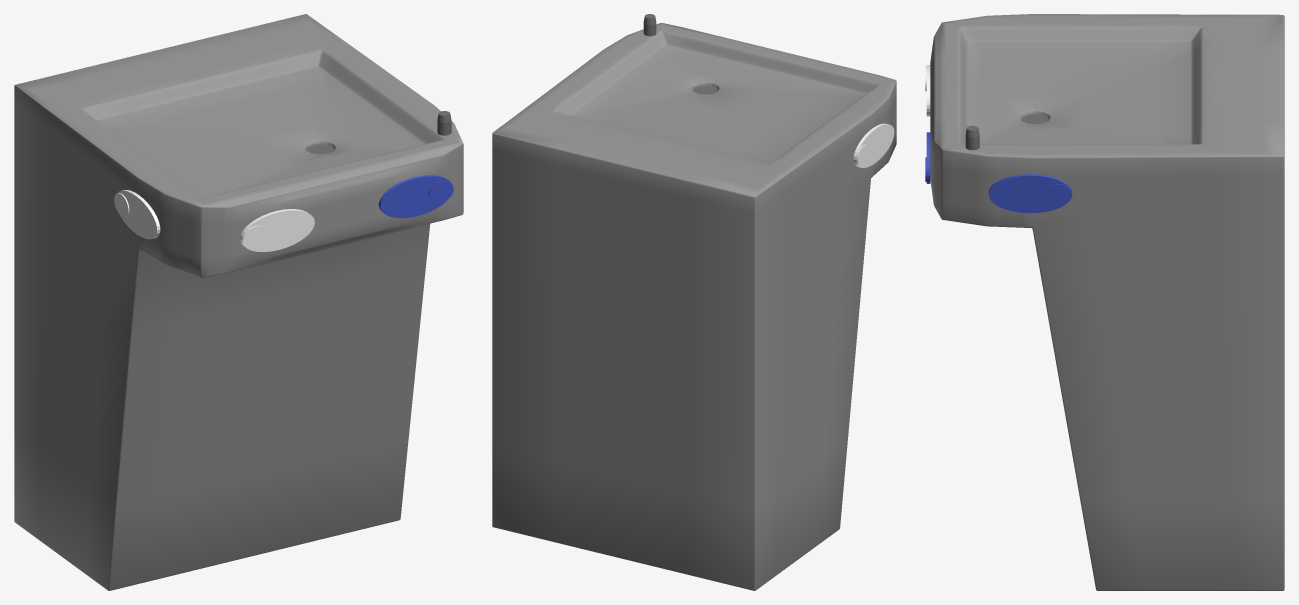
The model's file is Bebedouro.fbx.
3 renders of one model, left to right at view 1: azimuth 30°, elevation 25°; view 2: azimuth 150°, elevation 25°; view 3: azimuth 270°, elevation 25°, orthographic. The views are drawn at different scales.
Parts seen in each view (by area): view 1: Cube, Circle, Circle.001, Circle.002; view 2: Cube, Circle.002; view 3: Cube, Circle.003.
Boxes of the visible parts, x1,y1,x2,y2 form: Cube: (14,14,463,590); Circle: (378,175,453,218); Circle.001: (240,209,314,251); Circle.002: (114,190,160,239); Cube: (492,23,896,590); Circle.002: (853,123,894,167); Cube: (930,14,1284,590); Circle.003: (988,174,1072,213).
Size of the model in its own units: 209 by 299 by 214.
